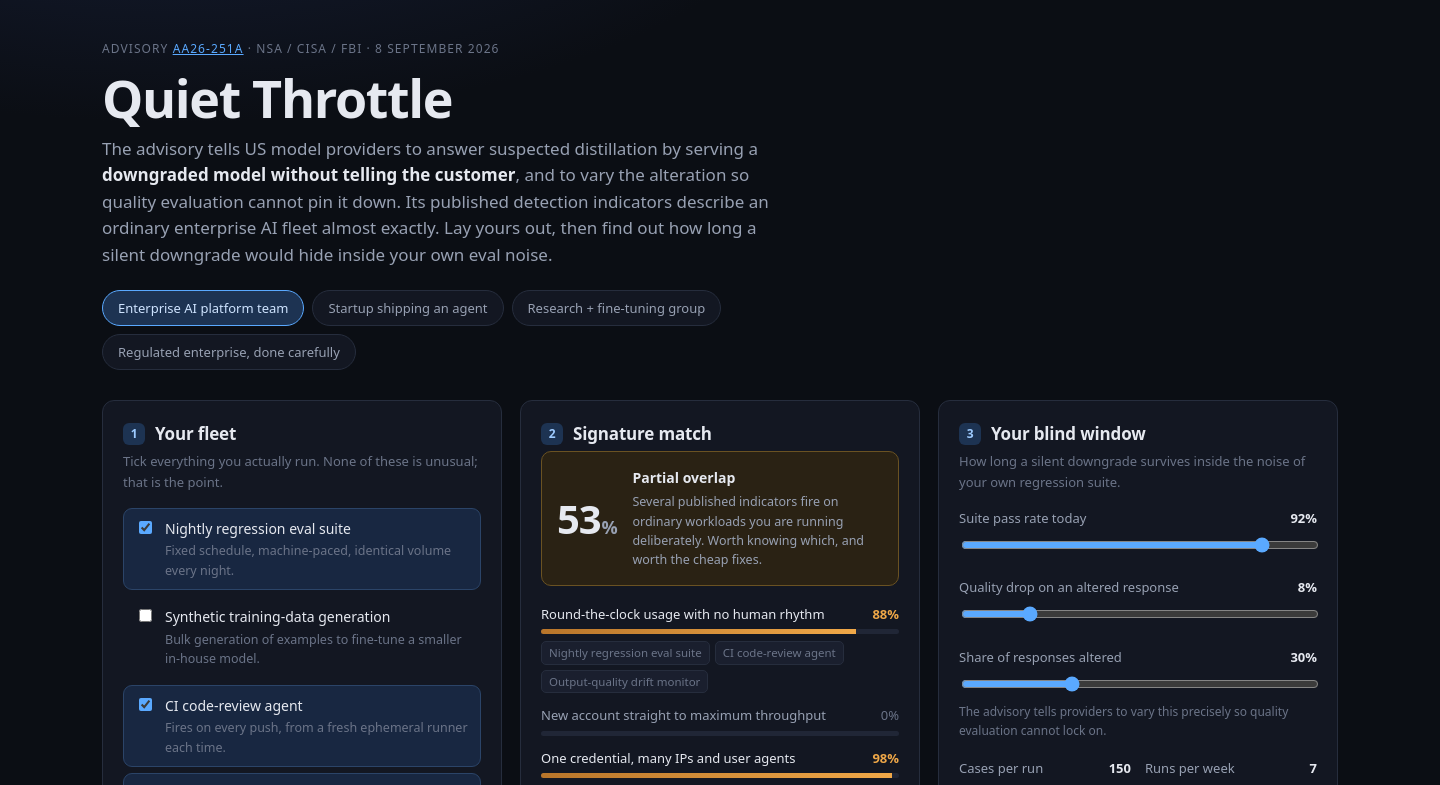
Test: App › switches to Custom once the fleet is edited
This screenshot has width=1440, height=785.
What coordinates should you click on to do the following:
click the checkbox labelled "Nightly regression eval suite"
I would click on:
 (146, 527)
Its box is [139,521,152,534].
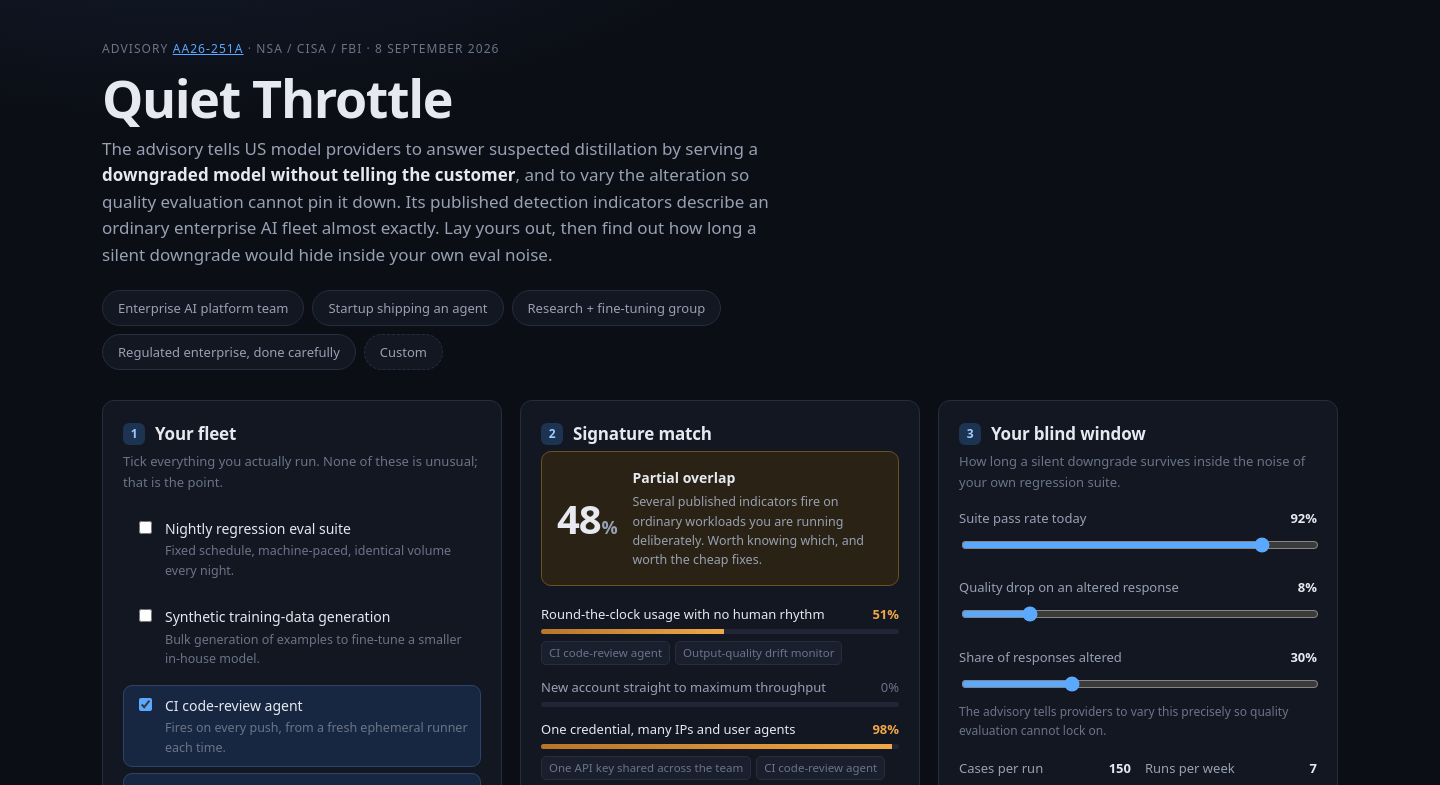
Check: the text "Custom" is shown, box [364,334,443,370]
